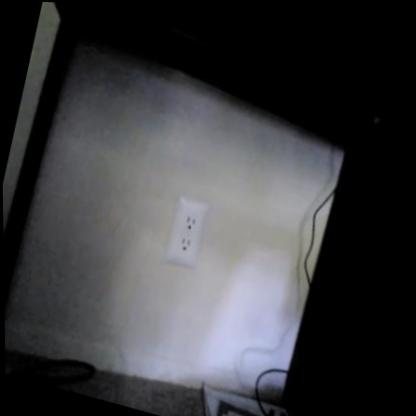OUTLET: (164, 195, 211, 270)
